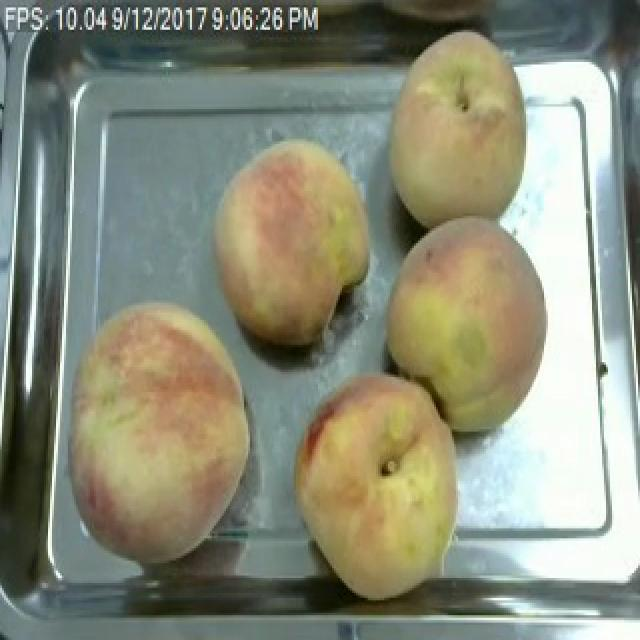Fruit: (44, 290, 260, 573), (282, 360, 474, 612), (374, 208, 558, 442), (204, 129, 384, 355), (376, 18, 542, 238)
